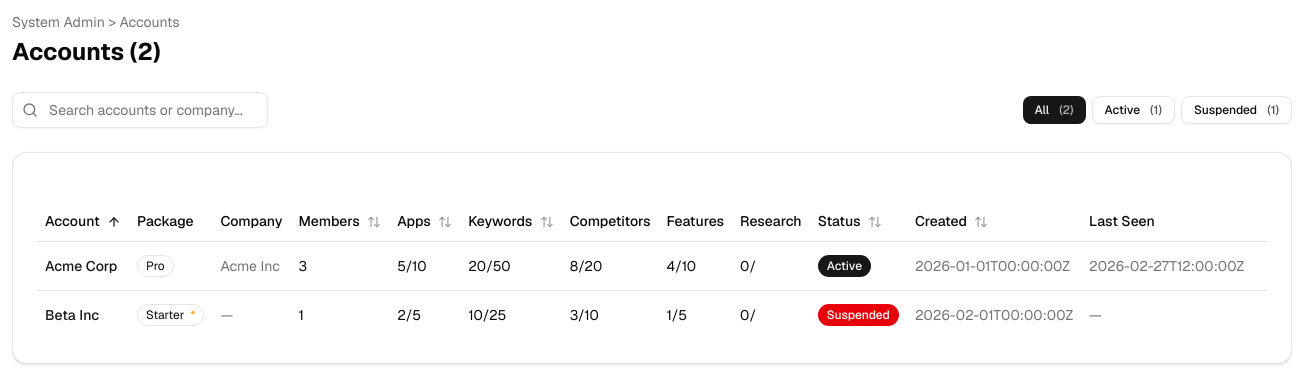
Test: AccountsListPage › shows empty state when no accounts match
Check: the link "Acme Corp" is shown, box [45,256,117,274]
In the field with placeholder "Search accounts or company...": (140, 110) [12,92,268,128], type "zzzzz"
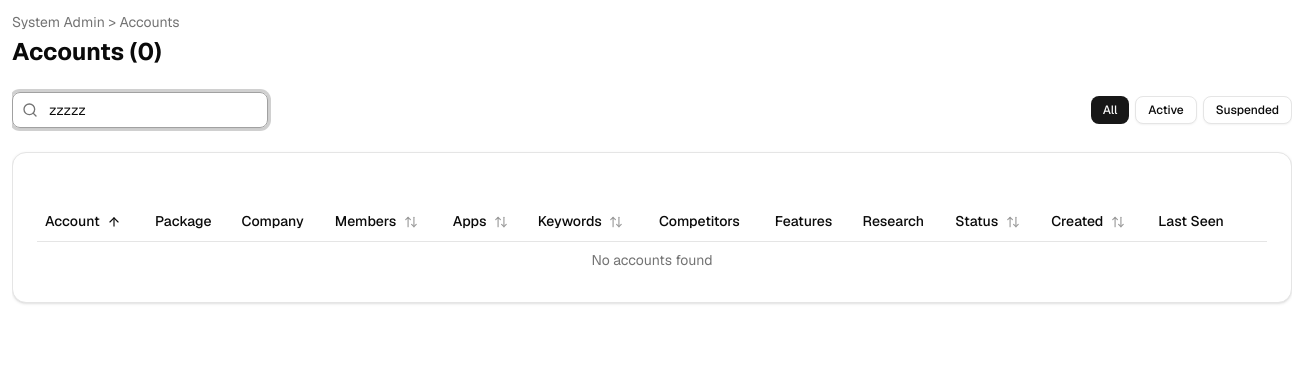
Check: the text "No accounts found" is shown, box [37,241,1267,278]
